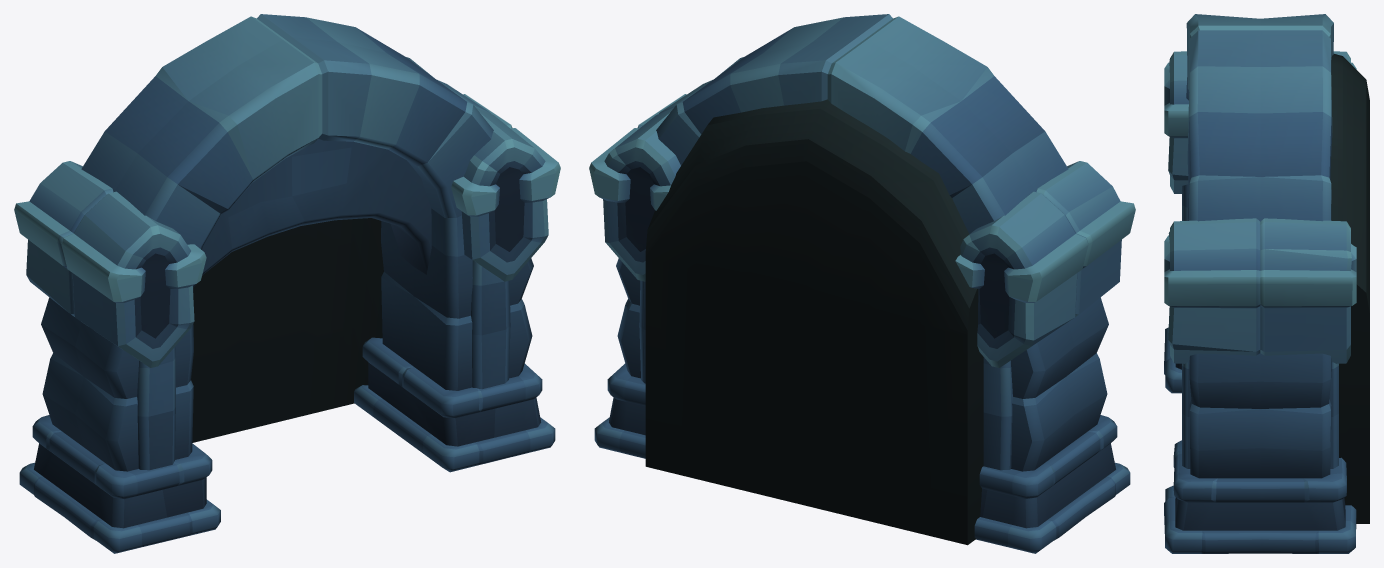
File: dungeon_entrance.fbx
3 renders of one model, left to right at view 1: azimuth 30°, elevation 25°; view 2: azimuth 150°, elevation 25°; view 3: azimuth 270°, elevation 25°, orthographic.
Visible parts, largest first — view 1: dungeon_entrance; view 2: dungeon_entrance; view 3: dungeon_entrance.
Boxes of the visible parts, x1=… form: dungeon_entrance: x1=14, y1=14, x2=560, y2=553; dungeon_entrance: x1=589, y1=14, x2=1135, y2=553; dungeon_entrance: x1=1164, y1=14, x2=1369, y2=553.
Size of the model in its own units: 708 by 637 by 282.
